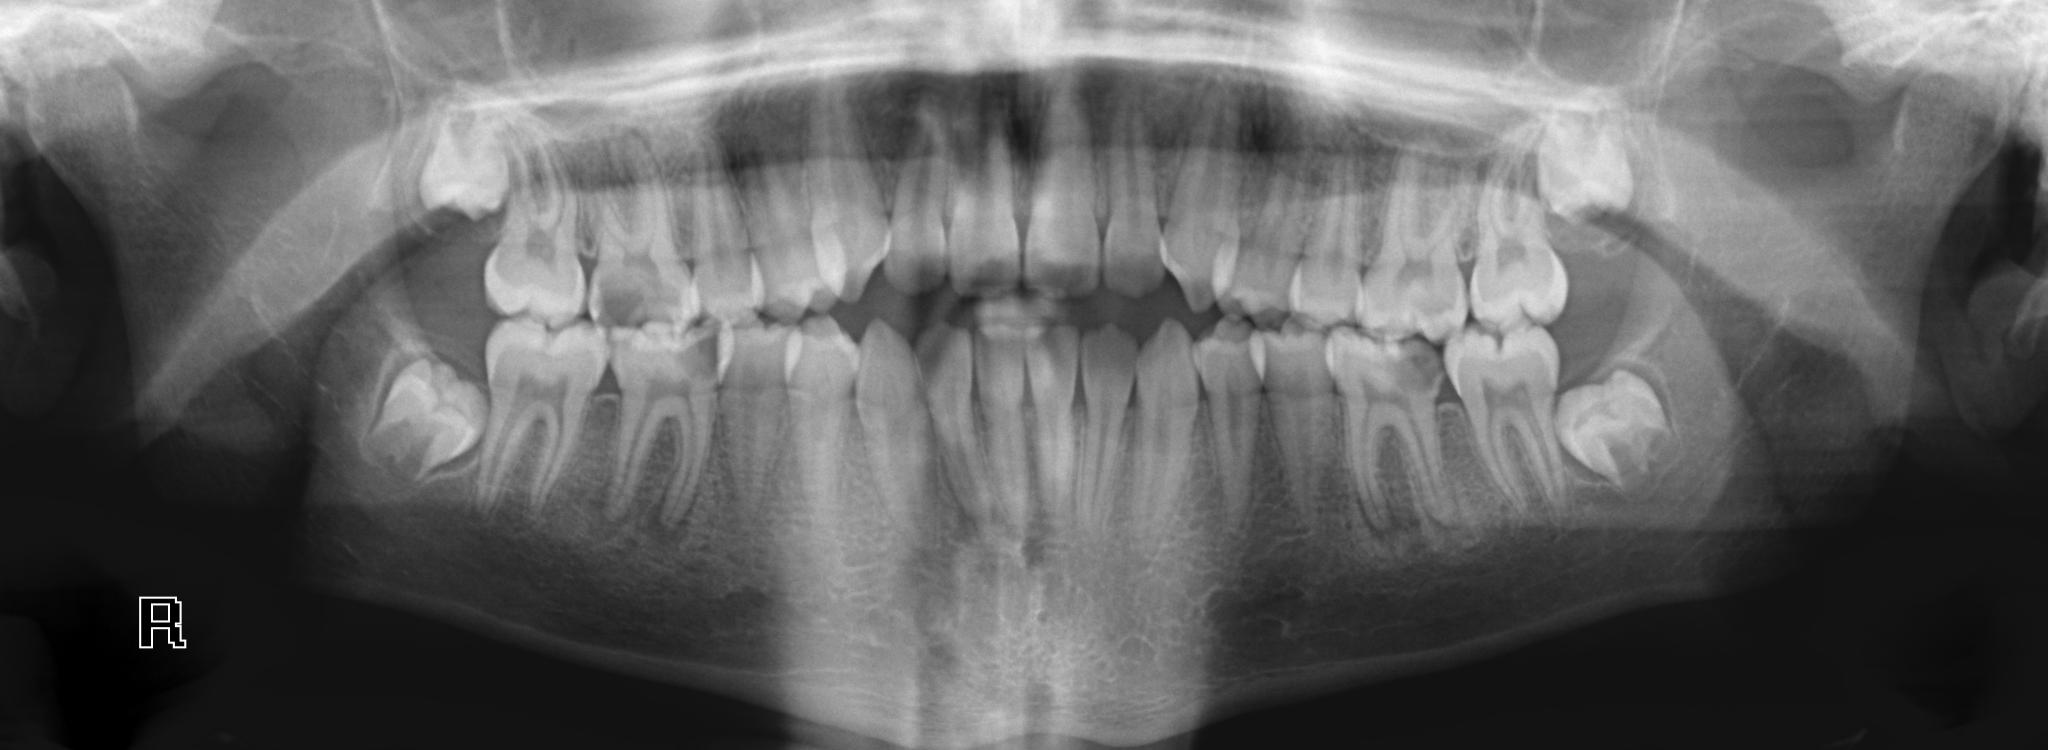Implant: (139, 597, 188, 649)
